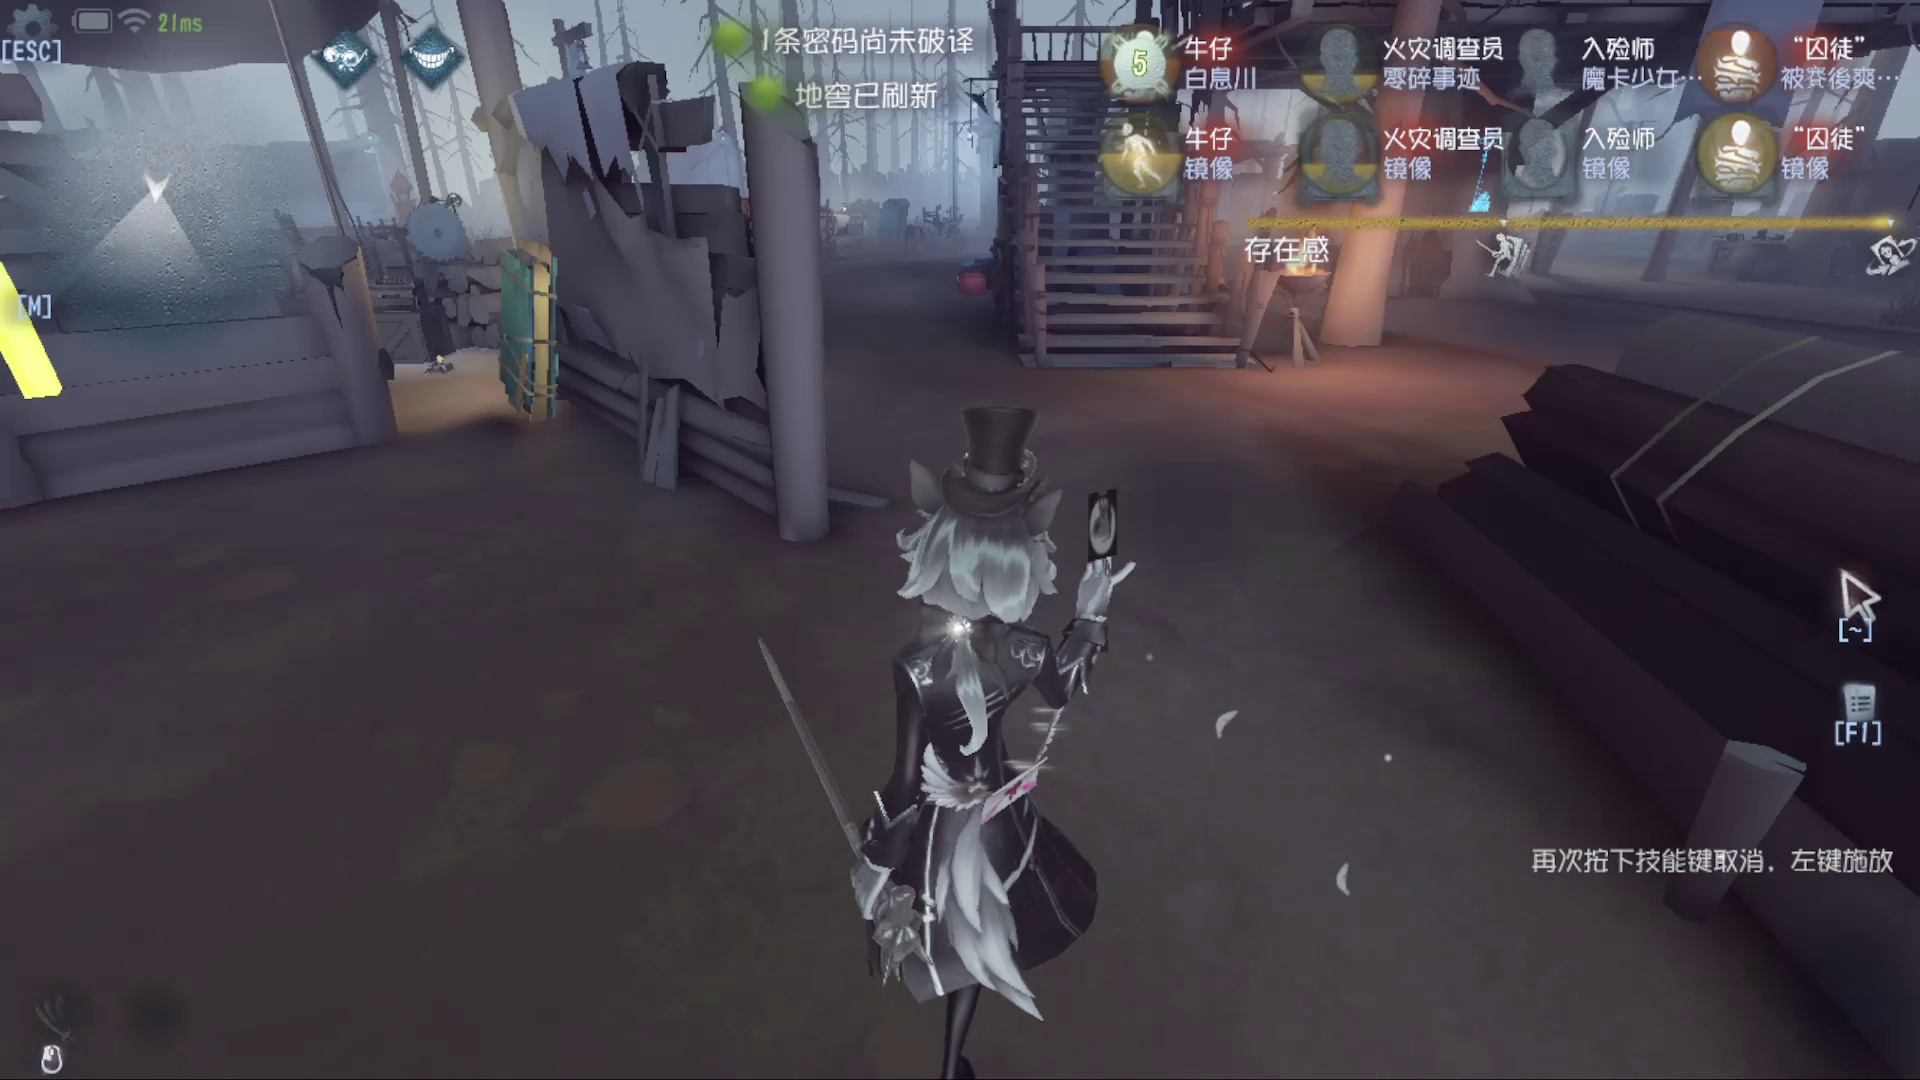密码机: (334, 211, 462, 377)
木板: (467, 243, 563, 427)
